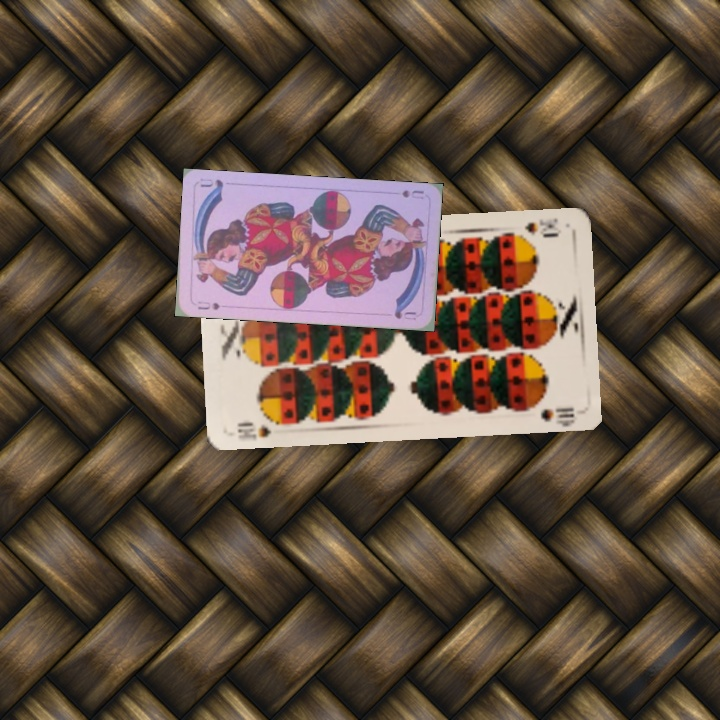S10: (233, 414, 288, 443), (521, 214, 561, 240)
SU: (193, 297, 222, 313), (398, 186, 426, 202)
